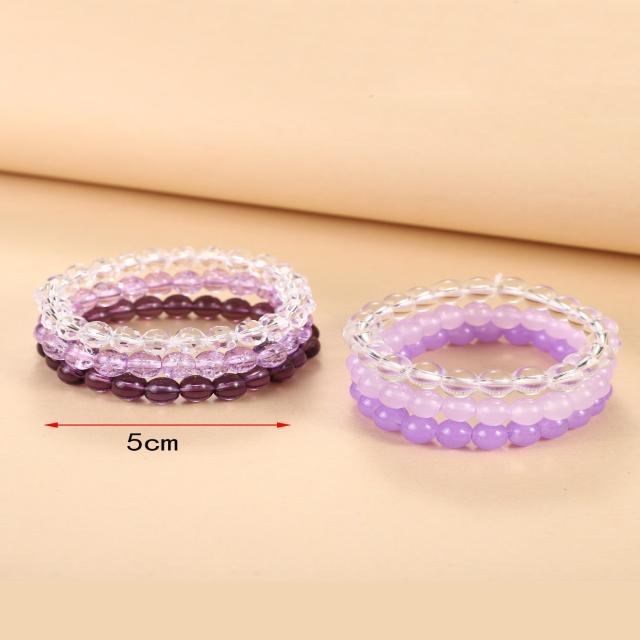bracelet: (323, 173, 640, 522), (25, 198, 332, 490)
